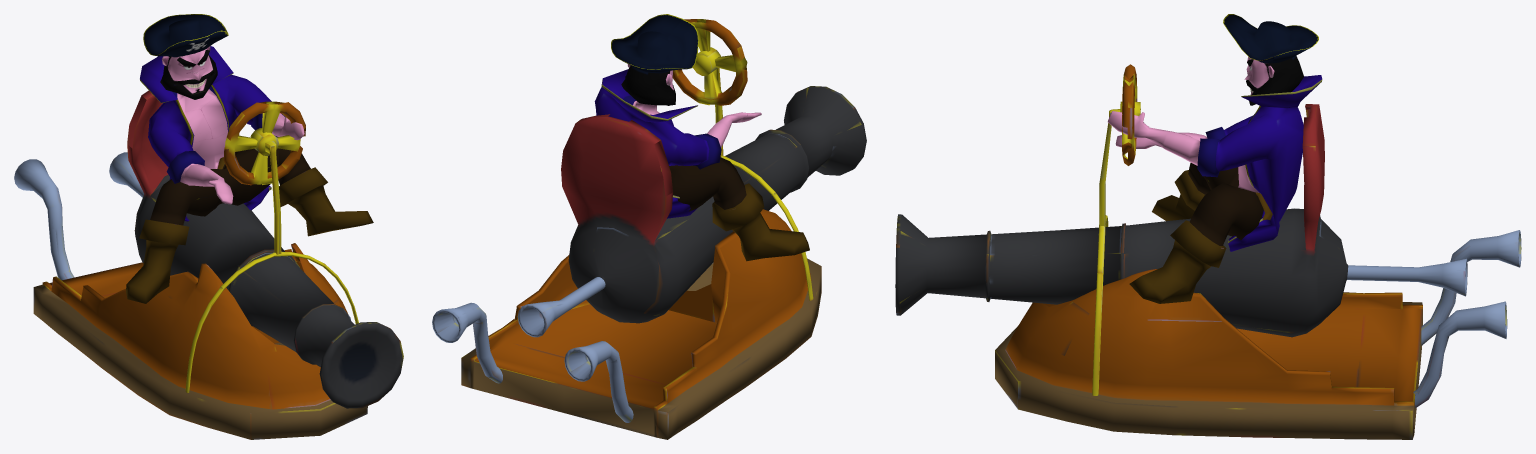
Rendered from pirataGiroDer_000181.obj.
3 views of the same model, side by side, from view 1: azimuth 30°, elevation 25°; view 2: azimuth 150°, elevation 25°; view 3: azimuth 270°, elevation 25° (orthographic). The views are drawn at different scales.
Parts seen in each view (by area): view 1: carro_pirata, Pirata_PirataH_Pirata_PirataH.001; view 2: carro_pirata, Pirata_PirataH_Pirata_PirataH.001; view 3: carro_pirata, Pirata_PirataH_Pirata_PirataH.001.
Boxes of the visible parts, x1,y1,x2,y2 form: carro_pirata: (14, 90, 403, 439); Pirata_PirataH_Pirata_PirataH.001: (126, 14, 373, 303); carro_pirata: (432, 19, 866, 439); Pirata_PirataH_Pirata_PirataH.001: (594, 14, 809, 261); carro_pirata: (895, 64, 1521, 439); Pirata_PirataH_Pirata_PirataH.001: (1107, 14, 1322, 303).
Size of the model in its own units: 5.67 by 7.55 by 12.1.
Materials: 2 (2 with a texture image).
